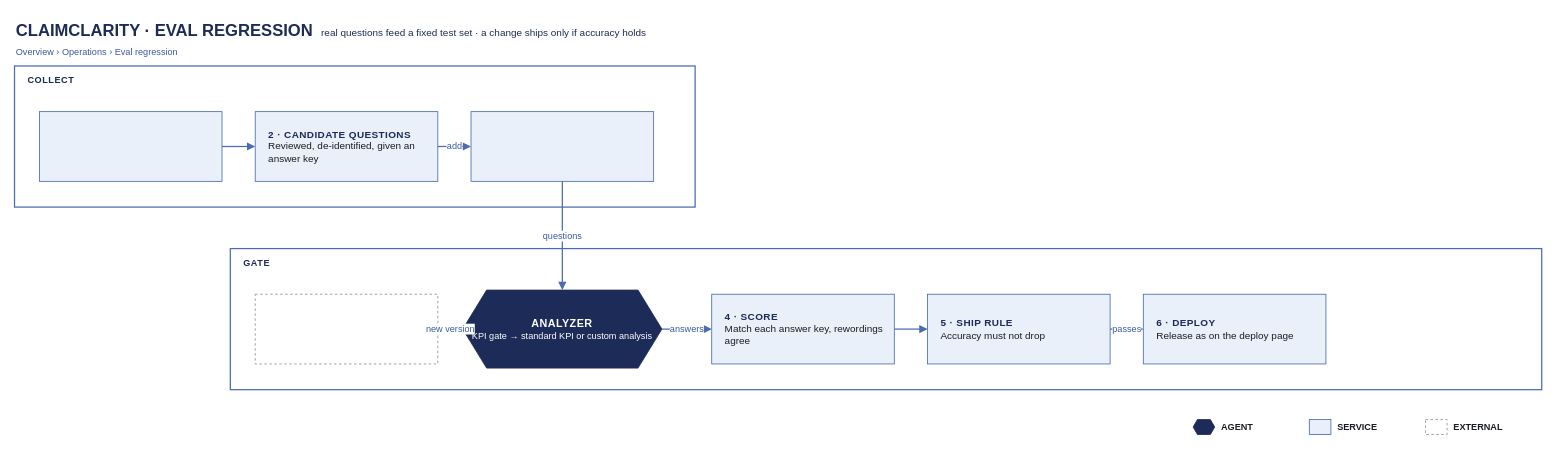
The diagram is 1557 pixels wide and 453 high, and some of its shapes have lost their labels. Here are the shapes that lost their labels. From the top down, the box of each, then its label:
(39, 111, 222, 181): 1 · SAMPLED ANSWERS Sampled transcripts and thumbs-down answers
(470, 111, 654, 181): 3 · REGRESSION SET Questions, answer keys and rewordings
(254, 293, 438, 364): ANALYZER CHANGE A pull request to the analyzer
